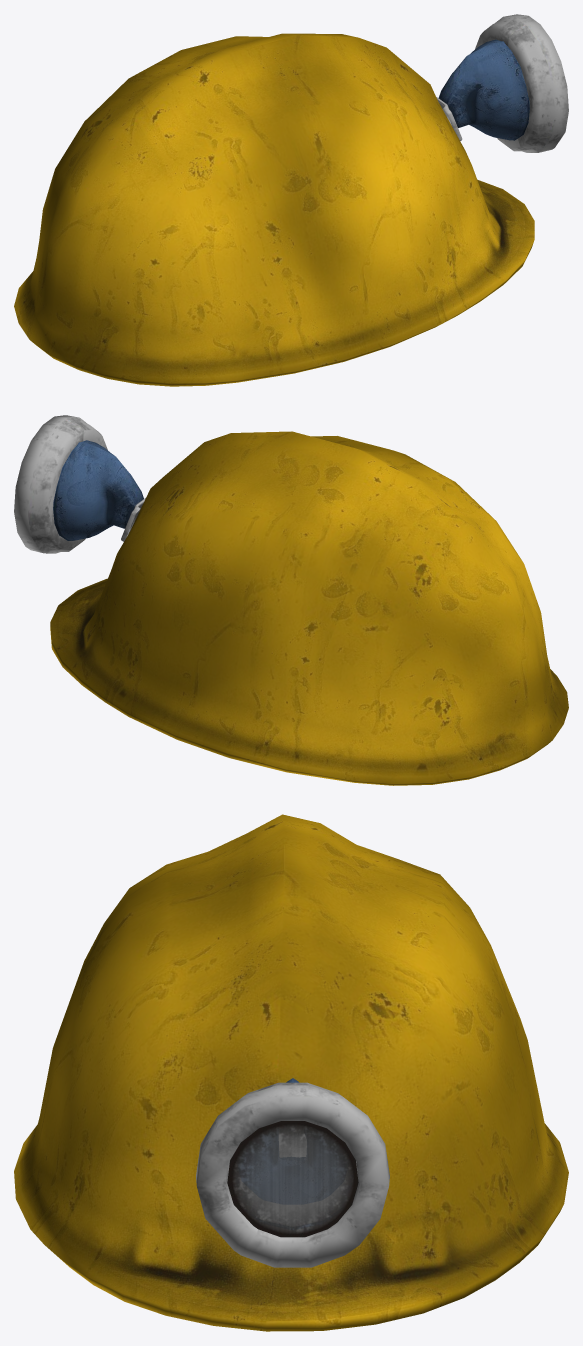
File: morph1.glb
The picture shows the model from 3 angles, top to bottom: view 1: azimuth 30°, elevation 25°; view 2: azimuth 150°, elevation 25°; view 3: azimuth 270°, elevation 25°; orthographic projection. The views are drawn at different scales.
Parts seen in each view (by area): view 1: Base_low, Light_low; view 2: Base_low, Light_low; view 3: Base_low, Light_low, Glass_low.
Boxes of the visible parts, x1,y1,x2,y2 form: Base_low: [14, 33, 534, 386]; Light_low: [438, 14, 568, 152]; Base_low: [50, 431, 568, 785]; Light_low: [14, 415, 143, 553]; Base_low: [14, 814, 568, 1331]; Light_low: [196, 1078, 389, 1267]; Glass_low: [227, 1121, 358, 1237].
Size of the model in its own units: 47.98 by 23.85 by 33.67.
1 material, 1 textured.
